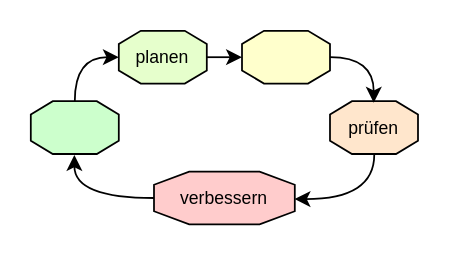
Some shapes in this 449 by 255 pixel diagram are drawn without their labels. The shapes that lost their labels are listed below. From the top down, each one's box as (x1, y1, x2, y2) in pixels, then its label:
(240, 29, 330, 84): betreiben
(29, 99, 119, 154): verstehen
